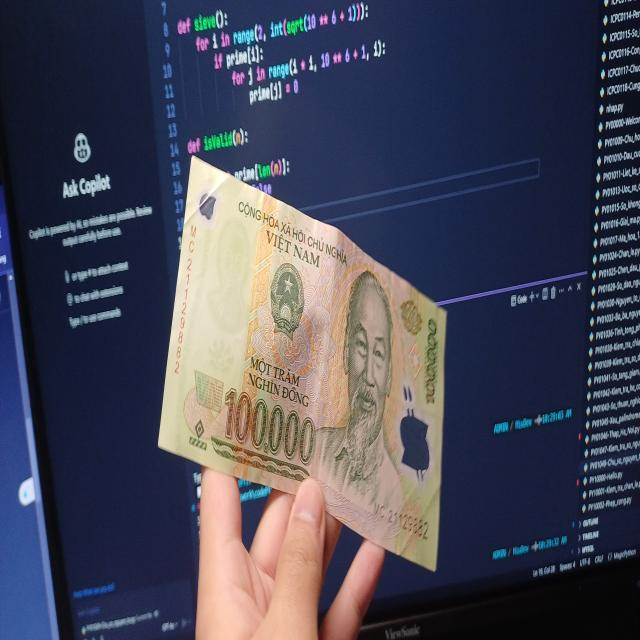100 000 VND: (154, 152, 450, 577)
